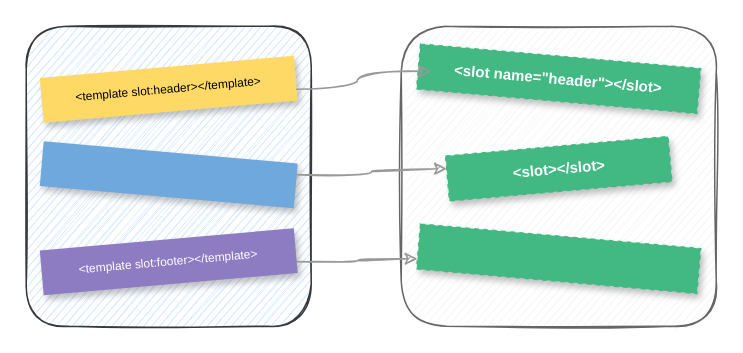
This 743x353 diagram has some shape labels left out. The shapes that lost their labels are listed below. From the top down, each one's centre as x and y in pixels, then its label:
the point at 169,176: <template></template>
the point at 559,260: <slot name="footer"></slot>
